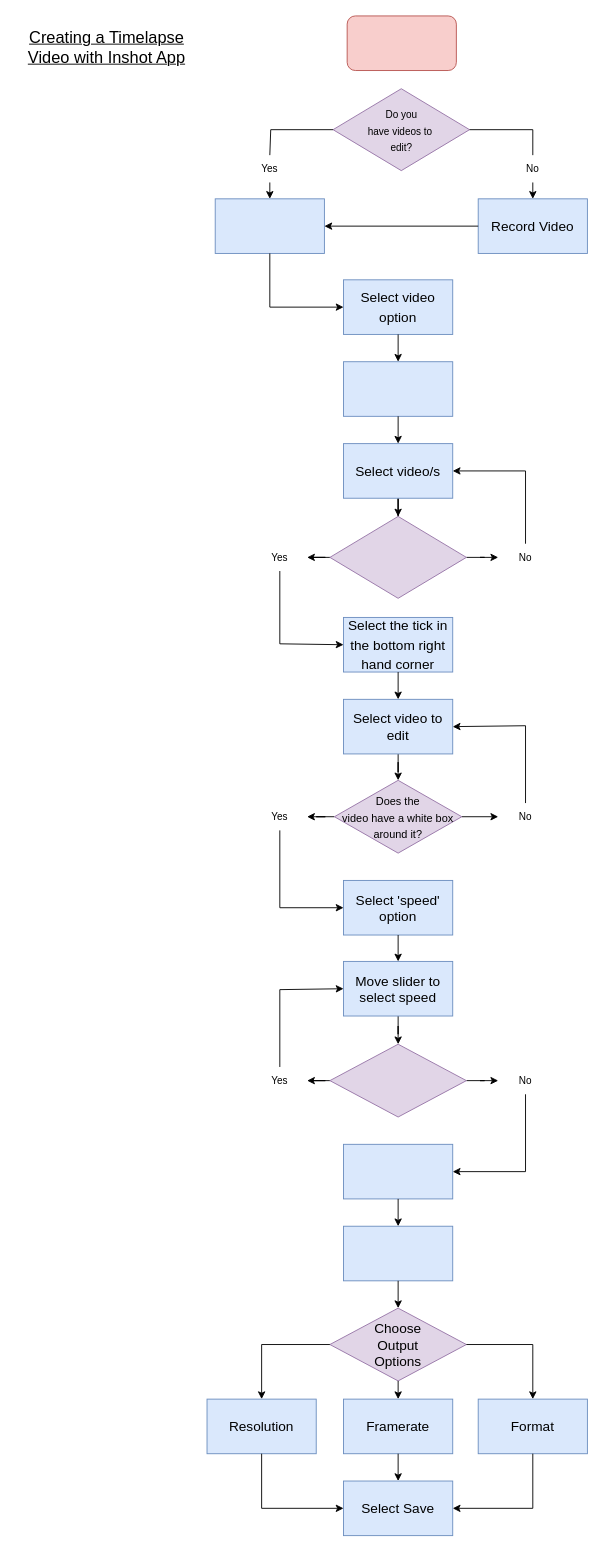
The diagram is 603 pixels wide and 1552 high, and some of its shapes have lost their labels. The shapes that lost their labels are listed below. From the top down, each one's box as (x1, y1, x2, y2) in pixels, then its label:
(346, 15, 456, 71): Start
(214, 198, 324, 253): Open Inshot app
(343, 361, 453, 416): Select New +
(329, 516, 466, 598): Have you selected all the videos you wish to edit?
(329, 1043, 466, 1117): Is the video too fast?
(343, 1143, 453, 1199): Select the tick on the bottom right of video
(343, 1225, 453, 1281): Select 'SAVE' at top right of screen
